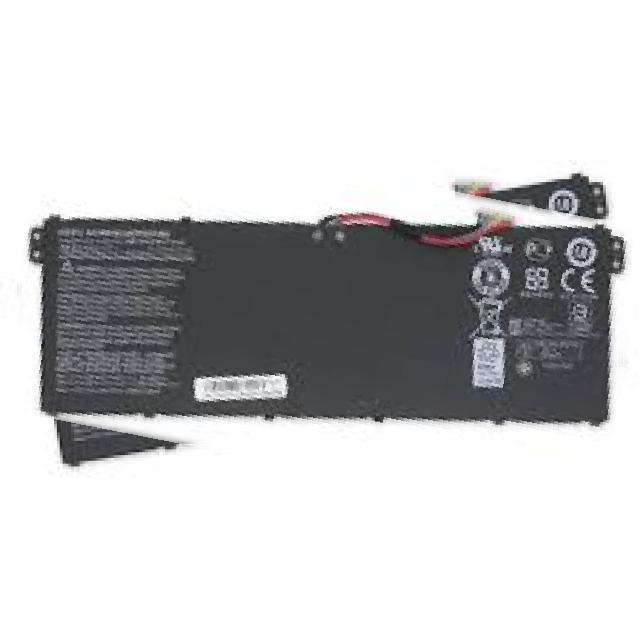Battery: (10, 205, 625, 431)
